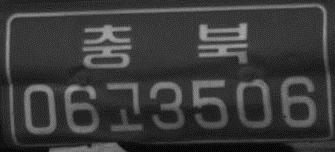0: (235, 73, 273, 131), (21, 82, 58, 136)
3: (147, 79, 186, 133)
5: (190, 76, 229, 130)
6: (279, 72, 319, 129), (63, 81, 102, 135)
고: (104, 78, 145, 135)
충북_D: (78, 20, 251, 72)
